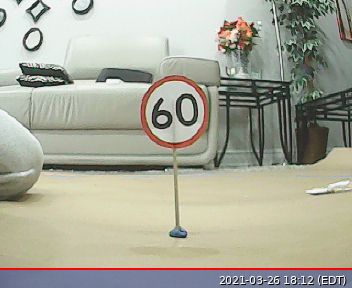Speed Limit 60: (139, 73, 209, 149)
